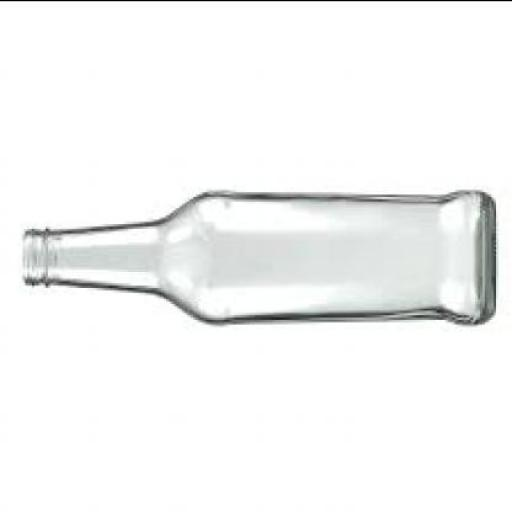glass: (21, 189, 491, 328)
